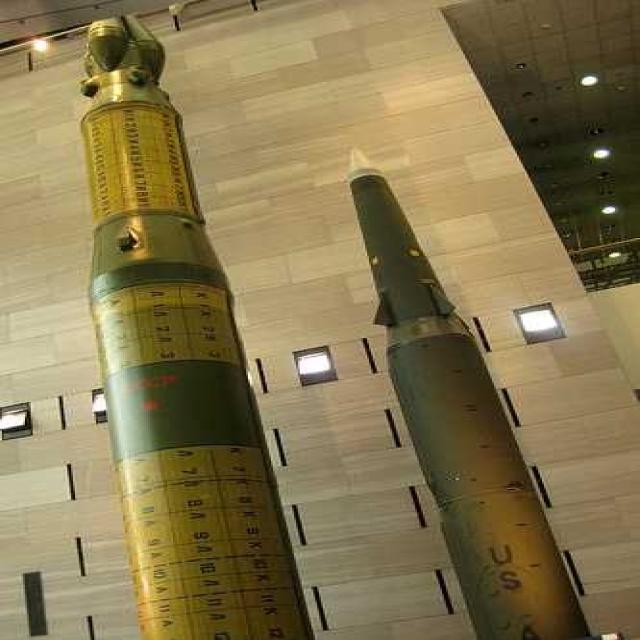missile: (75, 15, 315, 640), (340, 142, 602, 640)
